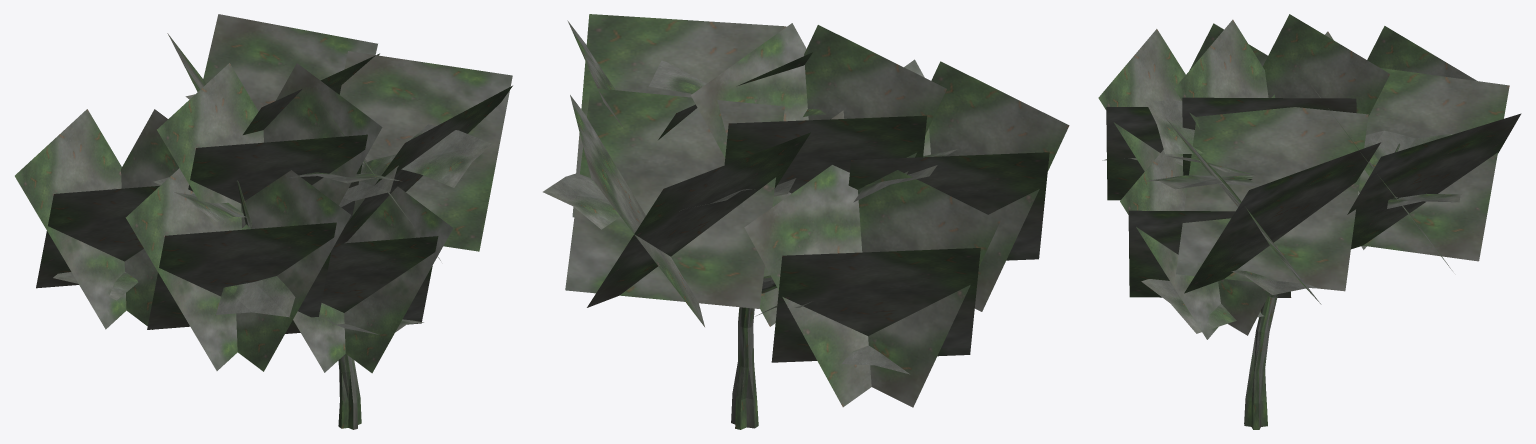
The model's file is young_oak_chopped.dae.
3 views of the same model, side by side, from view 1: azimuth 30°, elevation 25°; view 2: azimuth 150°, elevation 25°; view 3: azimuth 270°, elevation 25° (orthographic). The views are drawn at different scales.
Parts seen in each view (by area): view 1: young__oak_chopped; view 2: young__oak_chopped; view 3: young__oak_chopped.
Boxes of the visible parts, <box> form: young__oak_chopped: <box>15,14,512,429</box>; young__oak_chopped: <box>543,14,1069,429</box>; young__oak_chopped: <box>1098,14,1521,429</box>.
Size of the model in its own units: 77.08 by 65.85 by 55.78.
